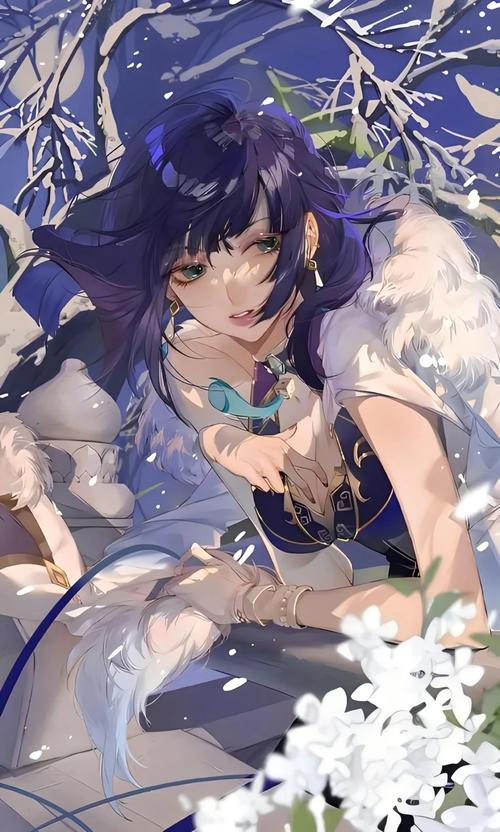夜兰: (31, 87, 500, 816)
